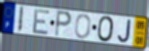E: (31, 8, 51, 36)
I: (17, 6, 25, 35)
J: (117, 19, 133, 45)
O: (97, 15, 115, 43), (74, 14, 92, 40)
P: (54, 9, 74, 39)
